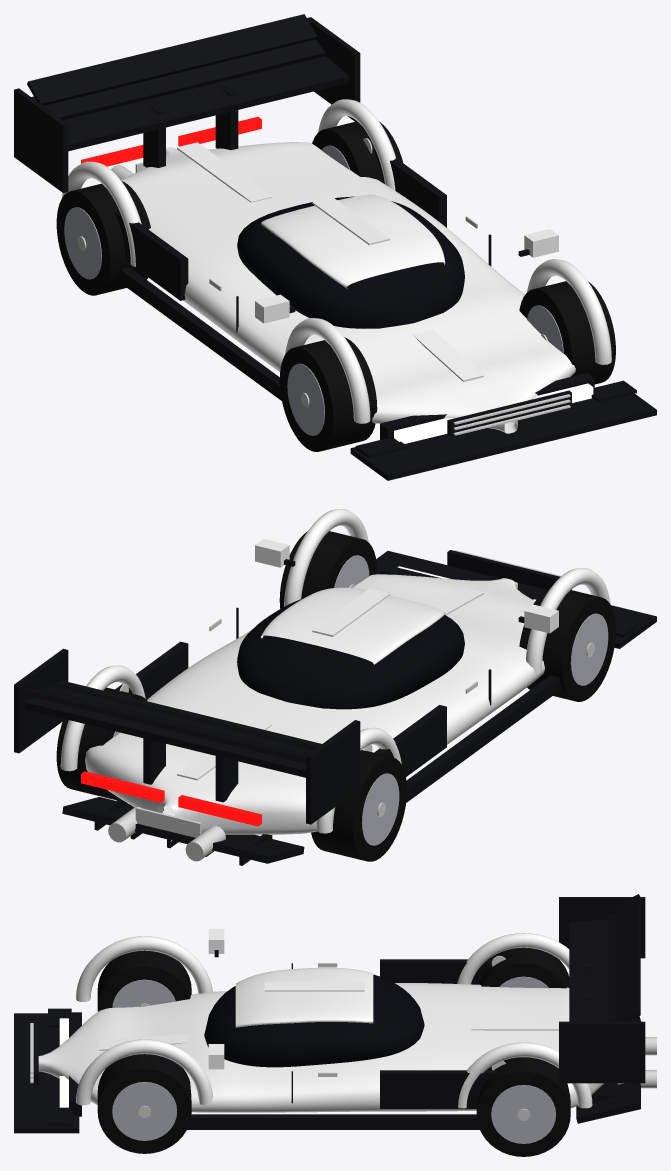
File: car_wedge.glb
3 views of the same model, one above another, from view 1: azimuth 30°, elevation 25°; view 2: azimuth 150°, elevation 25°; view 3: azimuth 270°, elevation 25° (orthographic). The views are drawn at different scales.
Parts seen in each view (by area): view 1: body, tire (×4), cabin, roof, wing_main, splitter, wing_top, wing_flap, rim (×3), plate_end-1, skirtR, intakeR (+18 smaller); view 2: body, tire (×4), cabin, roof, wing_main, rim (×3), plate_end-1, skirtR, diffuser, wing_flap, plate_end1, splitter (+20 smaller); view 3: body, tire (×4), cabin, rim (×4), roof, plate_end1, skirtL, splitter, wing_main, intakeL, wing_top, flareL1.45 (+13 smaller).
Part boxes in pixels (x1=…): body: x1=121, y1=142, x2=575, y2=433; tire (×4): x1=56, y1=121, x2=615, y2=451; cabin: x1=237, y1=196, x2=464, y2=328; roof: x1=261, y1=194, x2=445, y2=288; wing_main: x1=63, y1=55, x2=349, y2=151; splitter: x1=350, y1=393, x2=656, y2=480; wing_top: x1=27, y1=14, x2=317, y2=105; wing_flap: x1=31, y1=39, x2=325, y2=120; rim (×3): x1=64, y1=207, x2=563, y2=435; plate_end-1: x1=14, y1=88, x2=68, y2=192; skirtR: x1=117, y1=267, x2=281, y2=400; intakeR: x1=114, y1=211, x2=188, y2=300; body: x1=85, y1=574, x2=544, y2=841; tire (×4): x1=56, y1=531, x2=615, y2=861; cabin: x1=237, y1=598, x2=464, y2=709; roof: x1=261, y1=587, x2=445, y2=665; wing_main: x1=25, y1=680, x2=321, y2=777; rim (×3): x1=334, y1=555, x2=608, y2=845; plate_end-1: x1=306, y1=720, x2=360, y2=824; skirtR: x1=406, y1=675, x2=561, y2=802; diffuser: x1=62, y1=797, x2=304, y2=863; wing_flap: x1=25, y1=689, x2=308, y2=763; plate_end1: x1=14, y1=648, x2=68, y2=753; splitter: x1=376, y1=551, x2=656, y2=648; body: x1=38, y1=983, x2=604, y2=1112; tire (×4): x1=97, y1=947, x2=570, y2=1156; cabin: x1=204, y1=974, x2=424, y2=1067; rim (×4): x1=112, y1=976, x2=555, y2=1143; roof: x1=235, y1=967, x2=373, y2=1027; plate_end1: x1=559, y1=1021, x2=645, y2=1083; skirtL: x1=187, y1=1114, x2=479, y2=1129; splitter: x1=14, y1=1013, x2=79, y2=1133; wing_main: x1=569, y1=919, x2=607, y2=1021; intakeL: x1=380, y1=1070, x2=495, y2=1108; wing_top: x1=616, y1=894, x2=640, y2=1021; flareL1.45: x1=76, y1=1039, x2=212, y2=1105.
Bounding box in the file's own units: 2.33 × 1.18 × 4.92.
